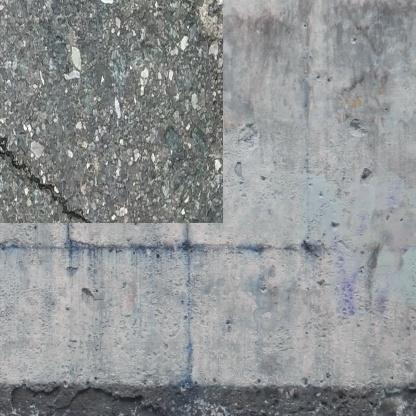Cracks: (0, 123, 86, 206)
